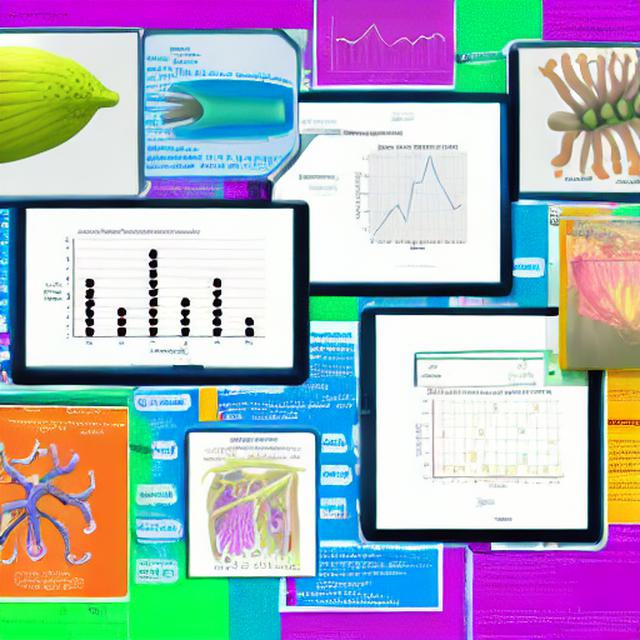Graph: (37, 224, 269, 359), (340, 138, 492, 252), (413, 388, 570, 491), (318, 4, 452, 86)
